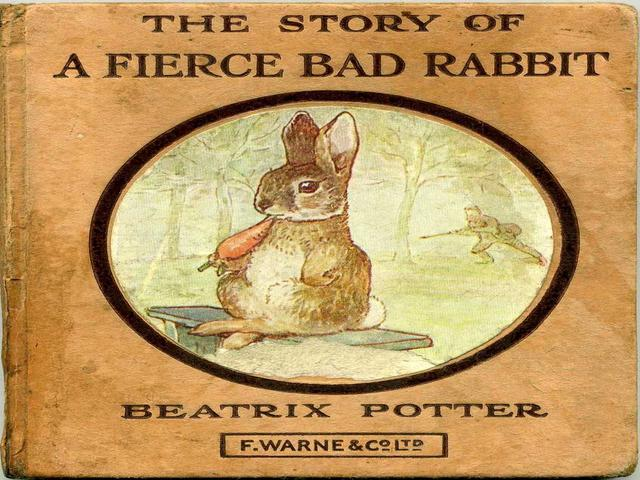rabbit: (161, 92, 397, 350)
